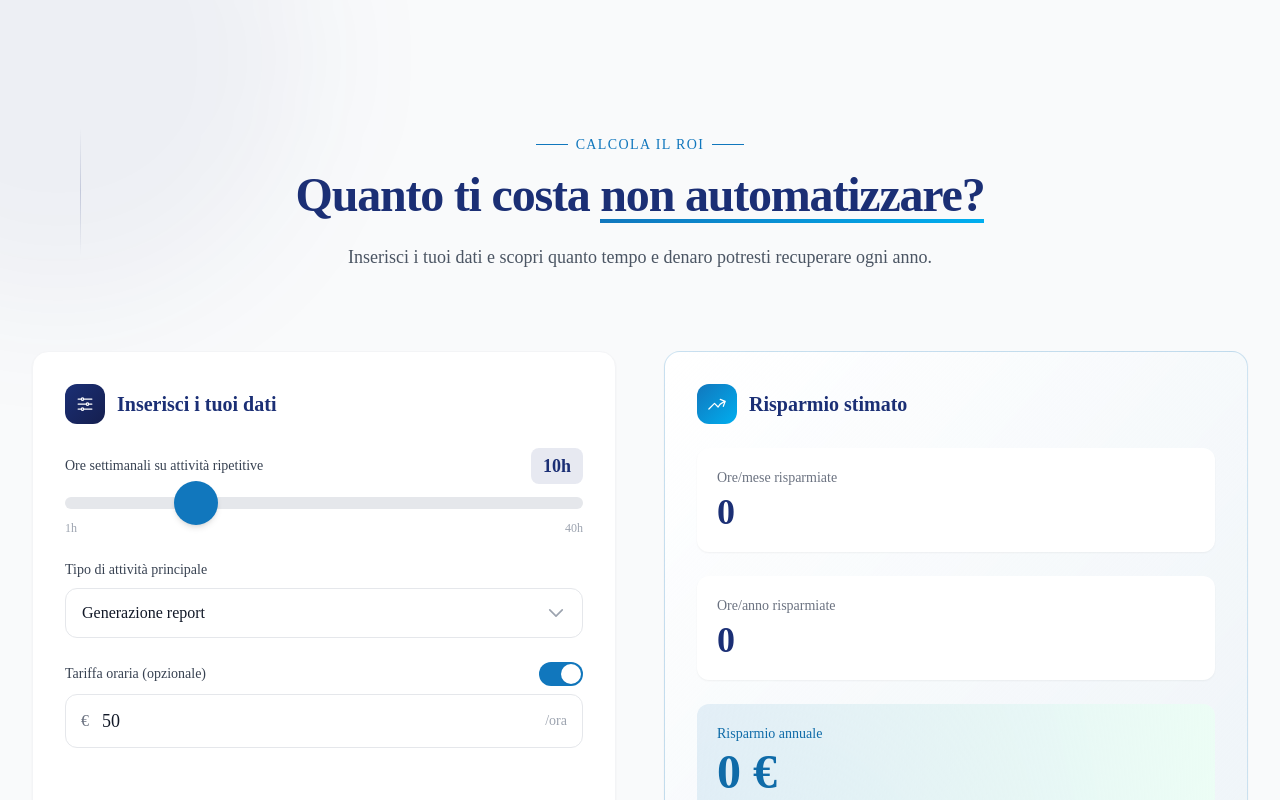
Test: ROICalculator › User Interactions › opens dropdown and shows task type options
Click the button with id "task-type": [144, 612] box top-left (65, 588), bottom-right (583, 638)
(page scrolled)
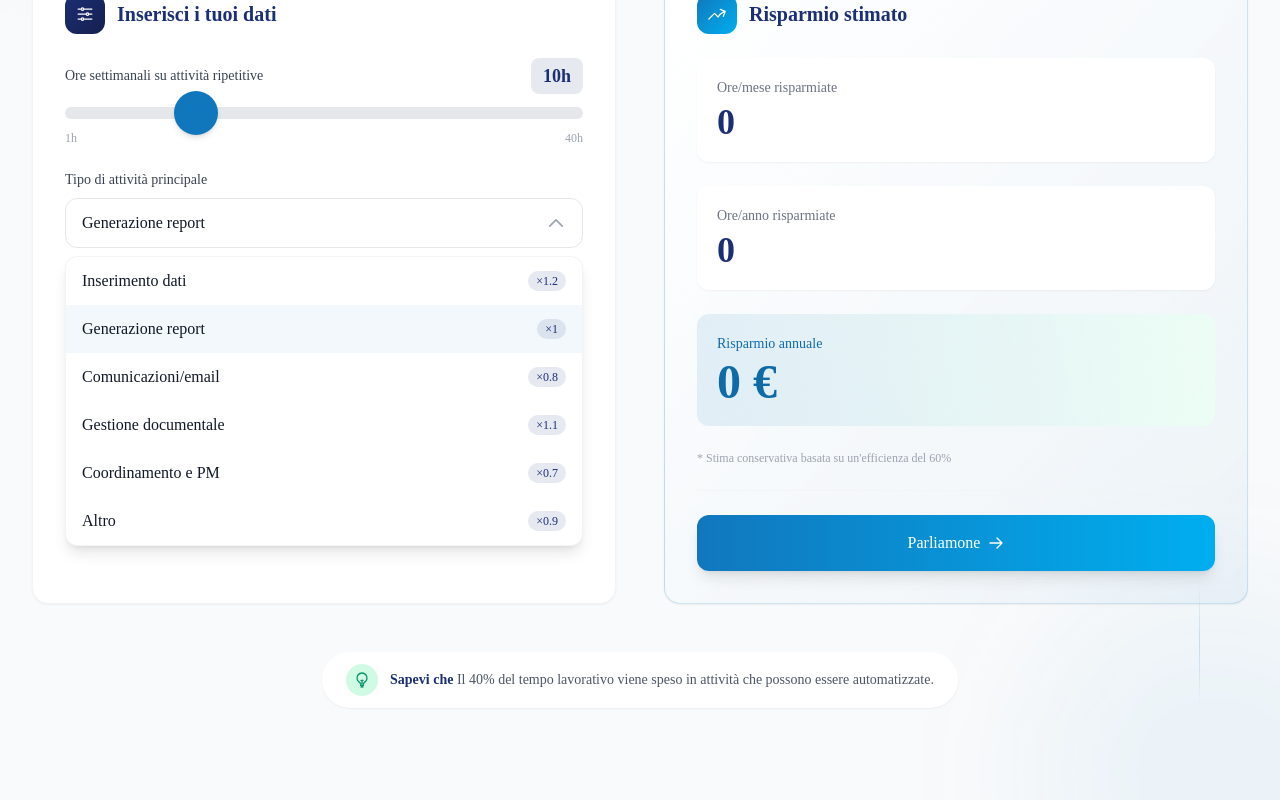
Now the list is shown, box top-left (65, 256), bottom-right (583, 546)
Now the number of options is 6, box top-left (66, 256), bottom-right (582, 304); top-left (66, 304), bottom-right (582, 352); top-left (66, 352), bottom-right (582, 400); top-left (66, 400), bottom-right (582, 448); top-left (66, 448), bottom-right (582, 496); top-left (66, 496), bottom-right (582, 544)
